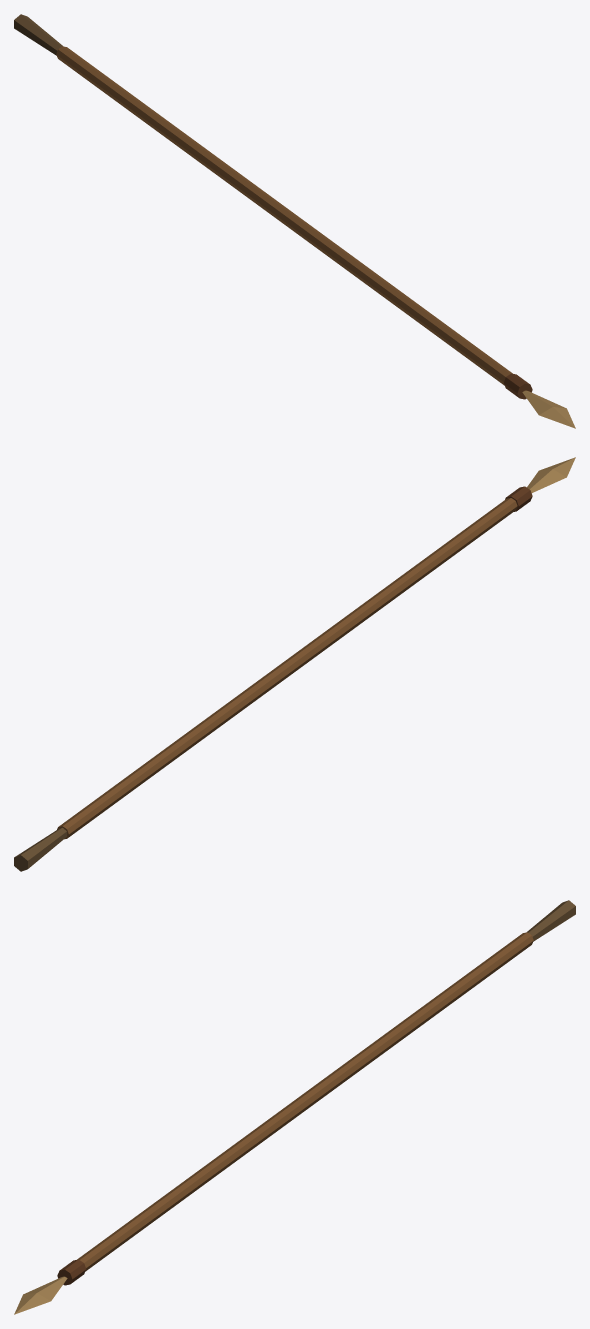
The model's file is prop_spear.fbx.
3 renders of one model, top to bottom at view 1: azimuth 30°, elevation 25°; view 2: azimuth 150°, elevation 25°; view 3: azimuth 330°, elevation 25°, orthographic.
Visible parts, largest first — view 1: prop_spear; view 2: prop_spear; view 3: prop_spear.
Boxes of the visible parts, left/top/right/bottom form: prop_spear: left=14, top=14, right=575, bottom=428; prop_spear: left=14, top=457, right=575, bottom=871; prop_spear: left=14, top=900, right=575, bottom=1314.
Size of the model in its own units: 0.07 by 0.04 by 2.4.
Materials: 1 (1 with a texture image).
